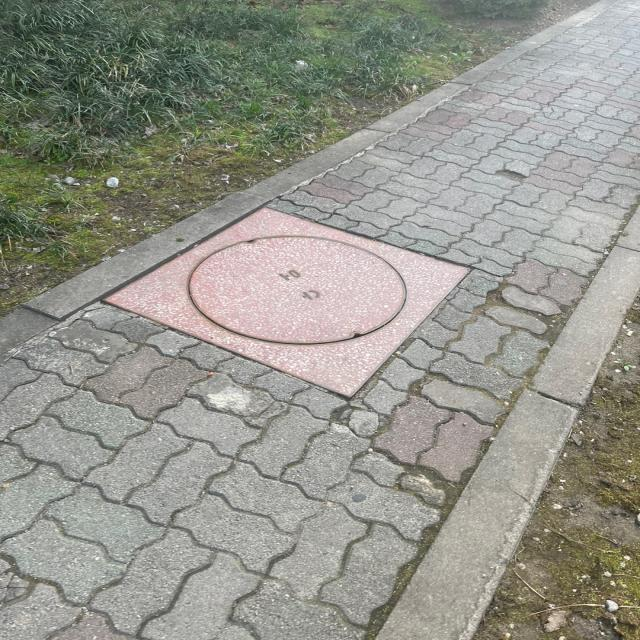Sewer Cover: (88, 179, 503, 401)
